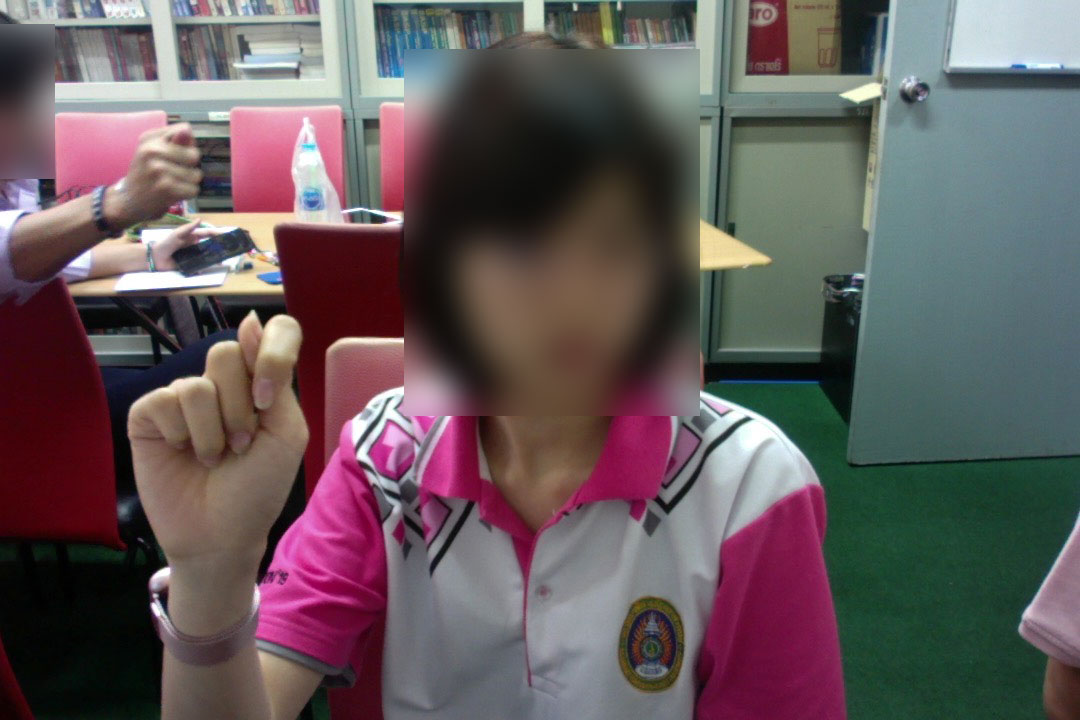tor: (120, 302, 317, 583)
